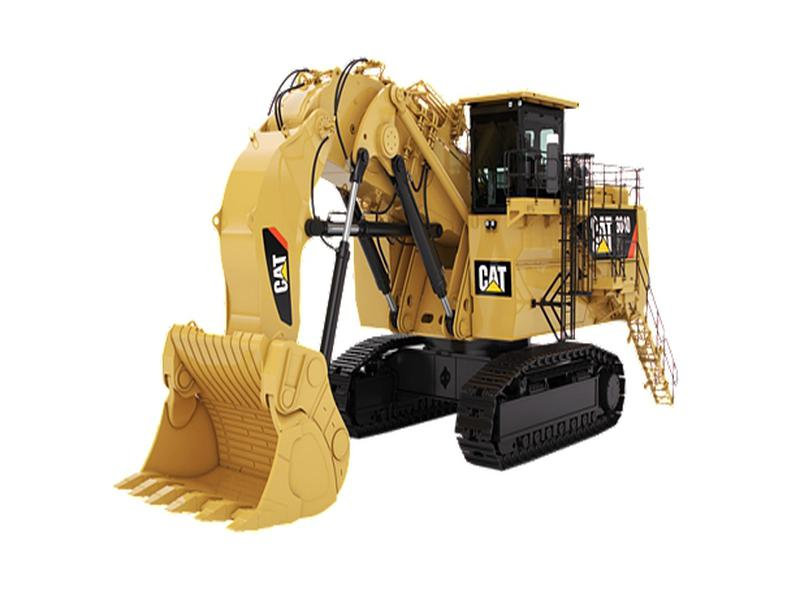shovel: (106, 51, 688, 531)
